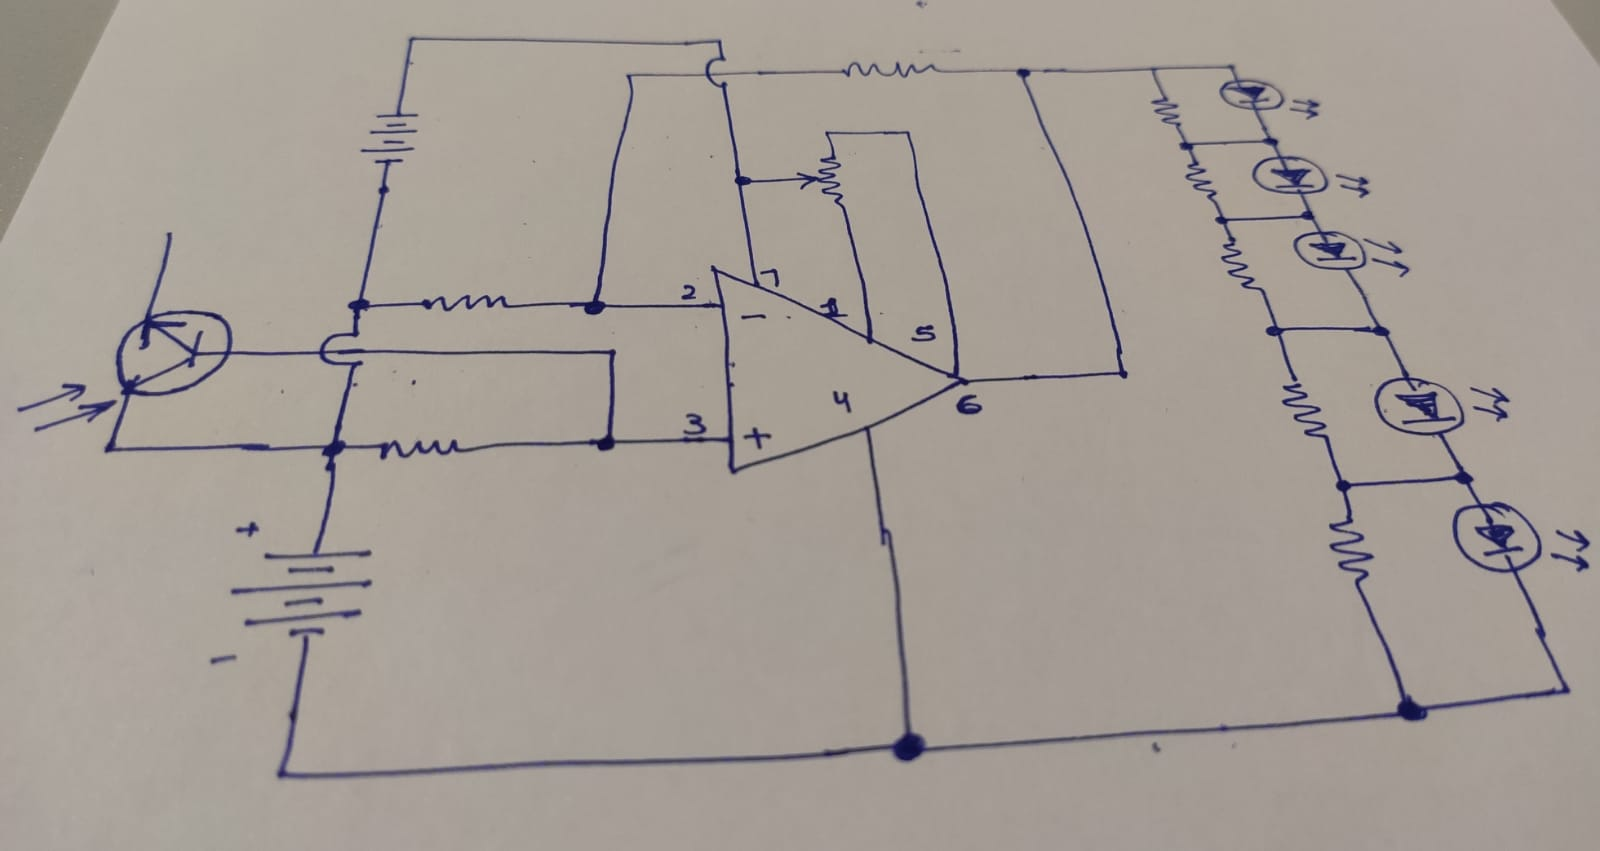crossover: (319, 327, 365, 373), (703, 55, 733, 91)
diode.light_emitting: (1450, 499, 1590, 578), (1374, 374, 1511, 438), (1250, 150, 1371, 200), (1291, 227, 1410, 274), (1218, 74, 1323, 119)
junction: (887, 726, 933, 767), (587, 423, 633, 459), (1384, 693, 1435, 725), (1204, 205, 1247, 237), (263, 757, 299, 787), (97, 430, 126, 464), (1170, 134, 1218, 155), (1554, 675, 1584, 706), (575, 294, 612, 319), (340, 293, 376, 316), (599, 341, 628, 369), (1108, 361, 1138, 387), (1295, 205, 1330, 227), (319, 437, 348, 461), (1447, 467, 1480, 487), (1328, 476, 1360, 497), (1254, 131, 1288, 150), (1010, 60, 1036, 85), (1263, 319, 1288, 343), (1367, 321, 1398, 340), (401, 31, 424, 53), (619, 66, 640, 90), (730, 170, 754, 191), (1144, 61, 1163, 82), (1222, 58, 1244, 74), (899, 123, 915, 142), (820, 126, 837, 143), (712, 34, 728, 50)
operational_amplifier: (707, 260, 970, 478)
resistor: (1278, 373, 1332, 443), (1325, 515, 1375, 589), (1217, 236, 1268, 295), (840, 54, 945, 80), (418, 289, 513, 315), (379, 434, 468, 461), (1181, 156, 1221, 202), (1150, 94, 1180, 131)
resistor.adjustable: (790, 146, 849, 210)
terminal: (154, 221, 183, 252)
text: (830, 385, 857, 417), (816, 295, 852, 319), (956, 388, 983, 417), (742, 425, 772, 451), (681, 408, 707, 436), (758, 265, 784, 290), (737, 307, 772, 324), (909, 323, 938, 343), (680, 280, 698, 302)
transistor.photo: (17, 306, 233, 431)
voltage.dc: (208, 521, 369, 667), (361, 108, 421, 168)
